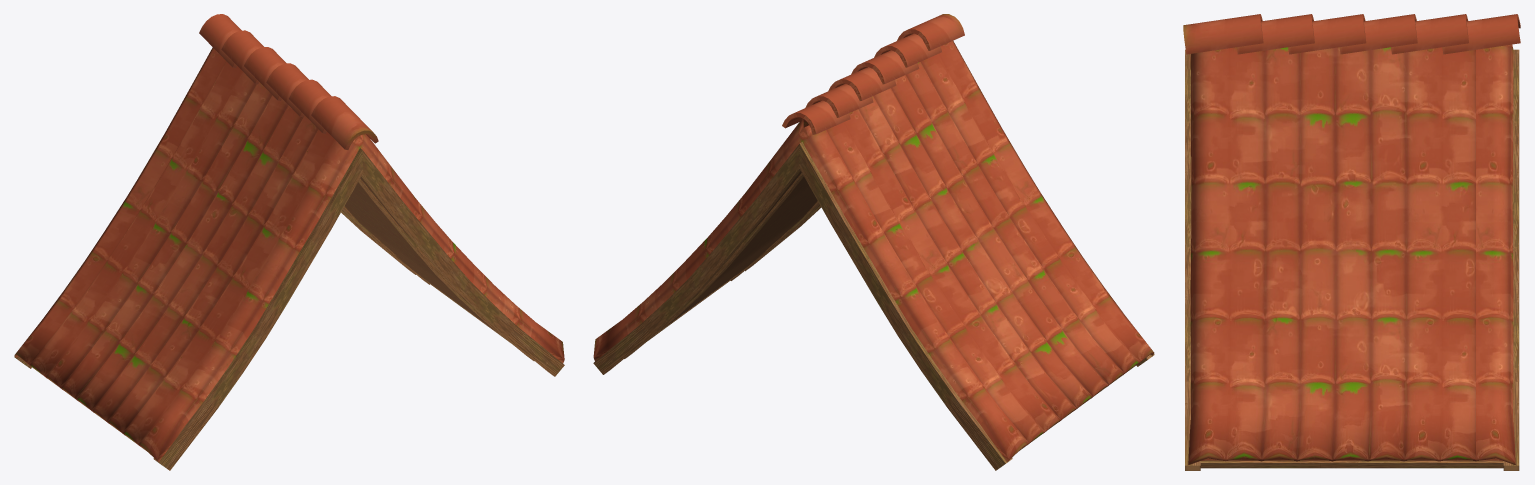
File: Roof_RoundTiles_6x4.gltf
3 views of the same model, side by side, from view 1: azimuth 30°, elevation 25°; view 2: azimuth 150°, elevation 25°; view 3: azimuth 270°, elevation 25° (orthographic). The views are drawn at different scales.
Visible parts, largest first — view 1: Roof_RoundTiles_6x4; view 2: Roof_RoundTiles_6x4; view 3: Roof_RoundTiles_6x4.
Part boxes in pixels (x1=…): Roof_RoundTiles_6x4: x1=14, y1=14, x2=564, y2=470; Roof_RoundTiles_6x4: x1=593, y1=14, x2=1154, y2=470; Roof_RoundTiles_6x4: x1=1183, y1=14, x2=1520, y2=470.
Bounding box in the file's own units: 8.25 × 5.67 × 4.99.
Materials: 2 (2 with a texture image).
